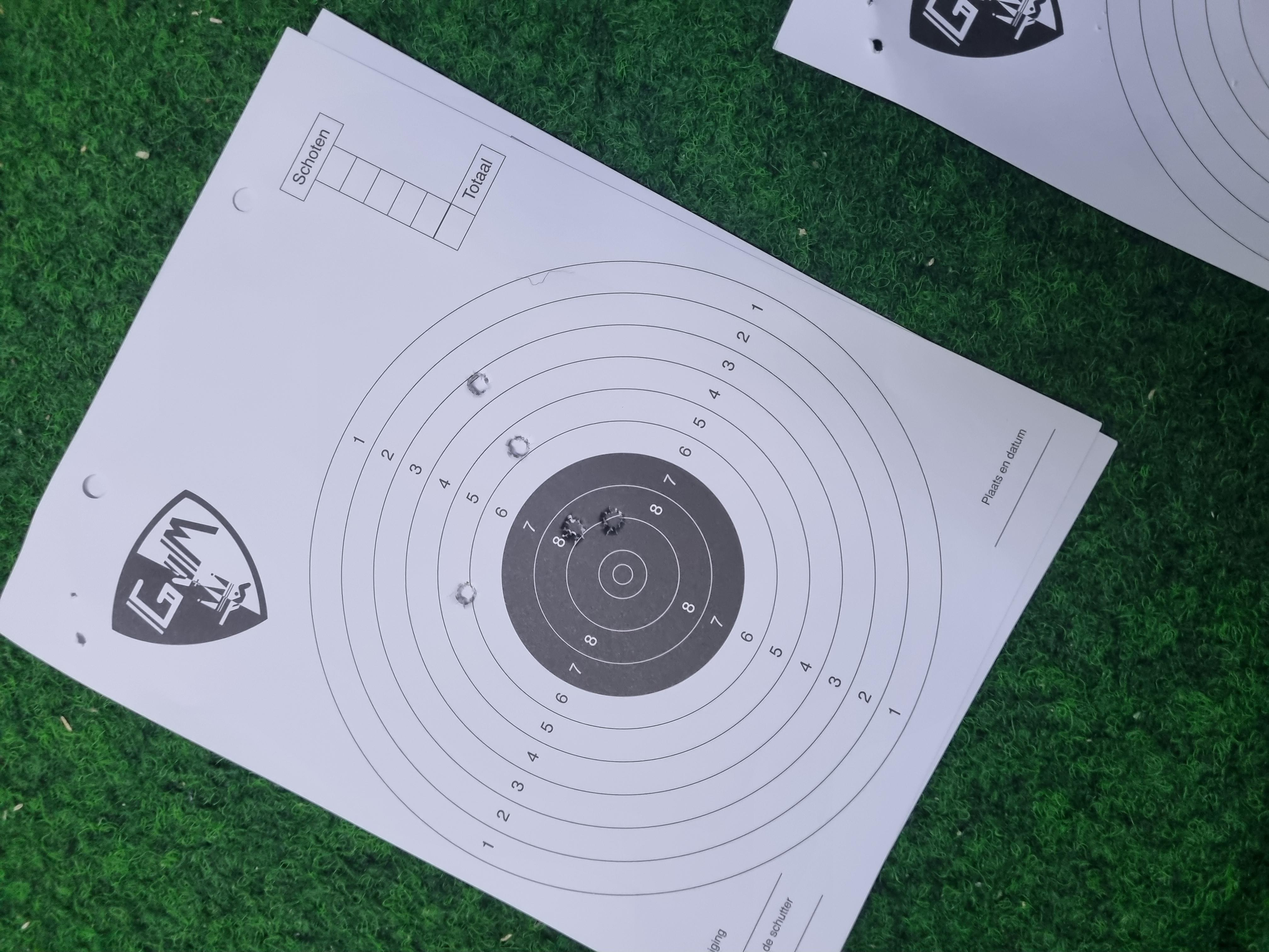hole: (543, 420, 583, 439), (555, 449, 594, 468), (457, 341, 494, 358), (658, 379, 689, 398), (741, 350, 773, 367)
